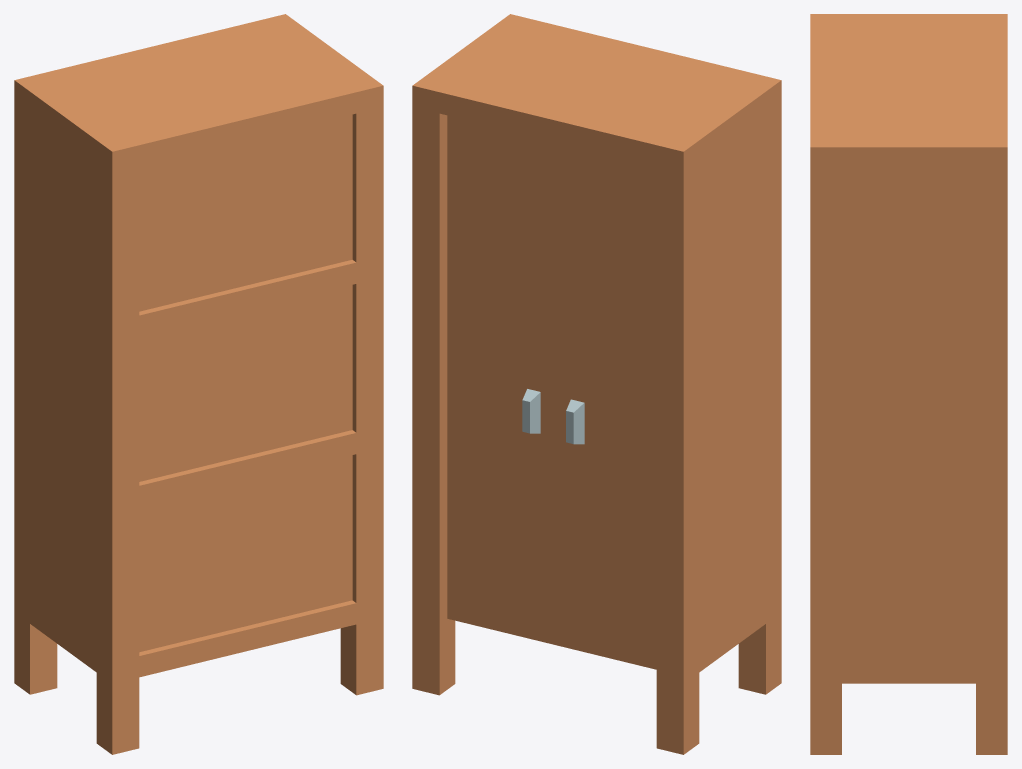
File: closetmodel.glb
The picture shows the model from 3 angles, left to right: view 1: azimuth 30°, elevation 25°; view 2: azimuth 150°, elevation 25°; view 3: azimuth 270°, elevation 25°; orthographic projection.
Visible parts, largest first — view 1: bookcaseClosedDoors; view 2: bookcaseClosedDoors, doorLeft, doorRight; view 3: bookcaseClosedDoors.
Boxes of the visible parts, x1,y1,x2,y2 form: bookcaseClosedDoors: [14, 14, 383, 754]; bookcaseClosedDoors: [412, 14, 781, 754]; doorLeft: [447, 115, 555, 634]; doorRight: [556, 142, 656, 658]; bookcaseClosedDoors: [810, 14, 1007, 754].
Size of the model in its own units: 0.4 by 0.85 by 0.25.
